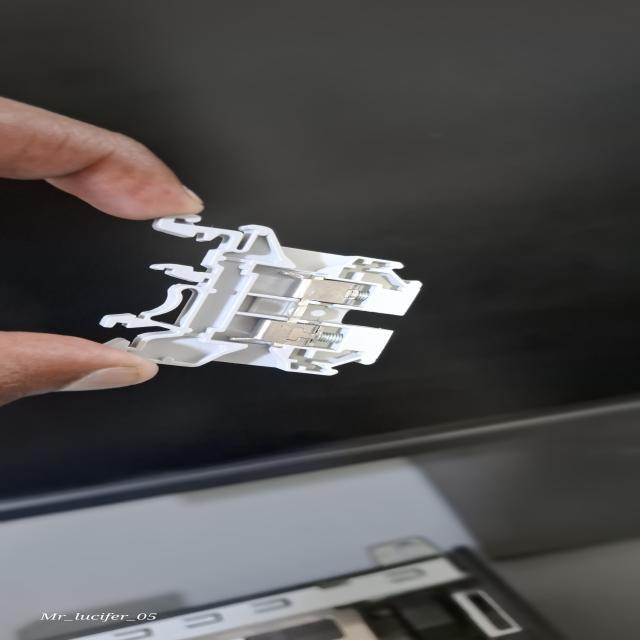Pass: (94, 214, 432, 380)
